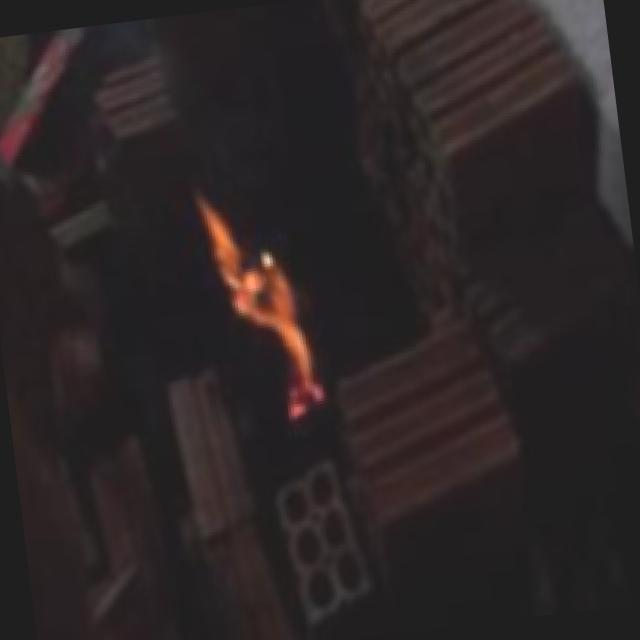fire: (173, 159, 373, 463)
